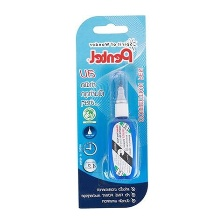book: (74, 12, 150, 212)
correction_fluid: (106, 72, 139, 182)
